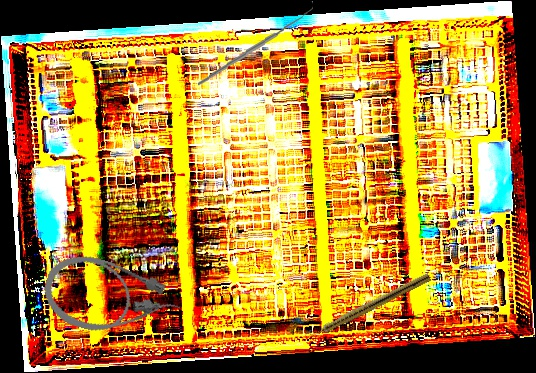Cannula: (36, 246, 188, 353)
Handpiece: (307, 270, 432, 341)
Hook Surgical: (194, 0, 317, 87)
